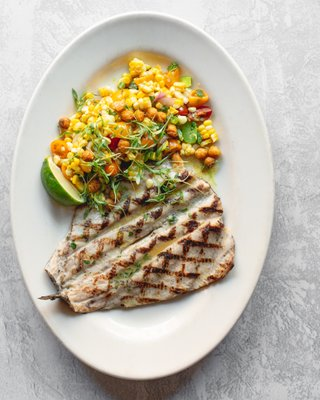sushi: (5, 11, 276, 362)
